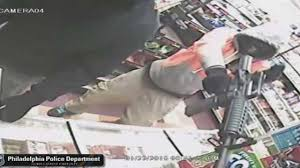rifle: (212, 51, 259, 167)
